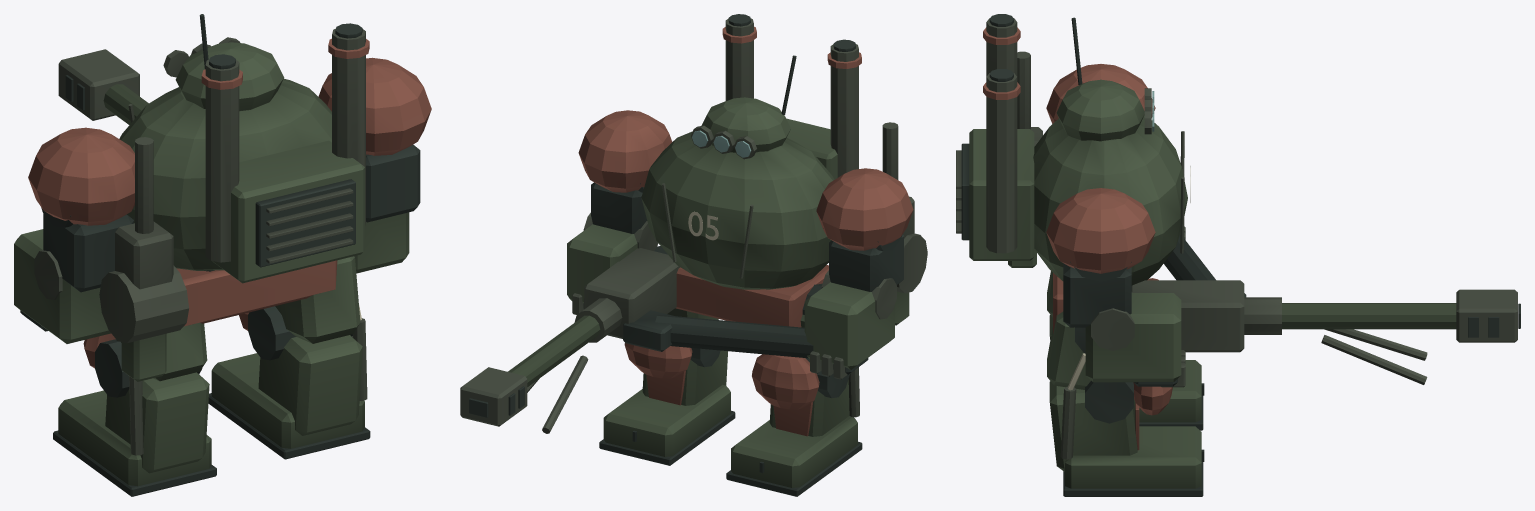
Rendered from type09_tieshan.glb.
3 renders of one model, left to right at view 1: azimuth 30°, elevation 25°; view 2: azimuth 150°, elevation 25°; view 3: azimuth 270°, elevation 25°, orthographic. The views are drawn at different scales.
Parts seen in each view (by area): view 1: Cast_egg_hull, Type06_Diesel, L_Pauldron, R_Shin, L_Shin, L_Diesel_stack, Hip_crossmember, R_Pauldron, R_Foot, L_Forearm, L_Foot, Type07_Drum (+26 smaller); view 2: Cast_egg_hull, L_Pauldron, R_Foot, L_Foot, L_Forearm, R_Pauldron, Hip_crossmember, Cannon_breech, Support_wrist, L_Diesel_stack, Small_dome, R_Forearm (+23 smaller); view 3: Cast_egg_hull, R_Pauldron, R_Foot, R_Forearm, R_Diesel_stack, Cannon_breech, Type06_Diesel, Cannon_barrel, Small_dome, R_Shin, R_Upper_arm, Large_muzzle_brake (+15 smaller).
Part boxes in pixels (x1,y1,x2,y2): Cast_egg_hull: (119, 78, 331, 270); Type06_Diesel: (212, 140, 364, 283); L_Pauldron: (28, 127, 134, 225); R_Shin: (258, 335, 362, 435); L_Shin: (105, 372, 209, 473); L_Diesel_stack: (205, 59, 239, 262); Hip_crossmember: (176, 260, 337, 326); R_Pauldron: (318, 57, 431, 155); R_Foot: (211, 353, 364, 448); L_Forearm: (14, 229, 110, 343); L_Foot: (58, 390, 211, 486); Type07_Drum: (99, 265, 189, 343); Cast_egg_hull: (641, 131, 834, 289); L_Pauldron: (816, 168, 913, 250); R_Foot: (603, 384, 730, 456); L_Foot: (731, 416, 857, 487); L_Forearm: (804, 282, 894, 369); R_Pauldron: (578, 110, 672, 192); Hip_crossmember: (675, 265, 828, 327); Cannon_breech: (584, 248, 679, 338); Support_wrist: (655, 315, 813, 358); L_Diesel_stack: (830, 44, 858, 177); Small_dome: (701, 97, 790, 152); R_Forearm: (567, 224, 637, 302); Cast_egg_hull: (1033, 115, 1187, 285); R_Pauldron: (1046, 188, 1155, 273); R_Foot: (1065, 426, 1201, 488); R_Forearm: (1085, 293, 1181, 382); R_Diesel_stack: (986, 73, 1017, 253); Cannon_breech: (1131, 280, 1244, 352); Type06_Diesel: (969, 129, 1034, 260); Cannon_barrel: (1282, 303, 1456, 329); Small_dome: (1056, 79, 1144, 141); R_Shin: (1049, 381, 1137, 471); R_Upper_arm: (1063, 263, 1131, 327); Large_muzzle_brake: (1456, 289, 1517, 342).
Bounding box in the file's own units: 1.16 × 1.32 × 1.65.
